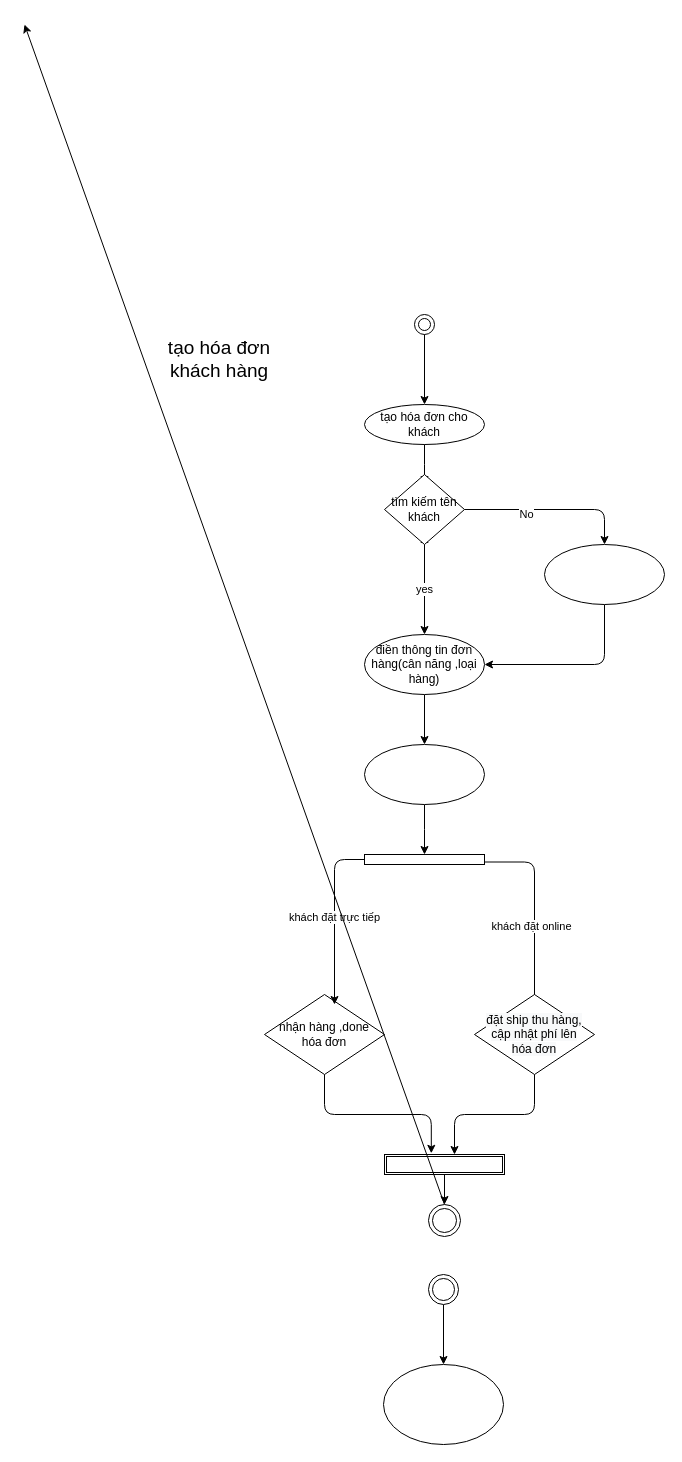
The diagram is 682 pixels wide and 1462 high, and some of its shapes have lost their labels. Here are the shapes that lost their labels. From the top down, the box of each, then its label:
(544, 544, 664, 604): tạo tài khoản khách hàng
(364, 744, 484, 804): tạo đơn cập nhật giờ lấy hàng ,ngày dự đình hoàn thành lên phần hóa đơn
(382, 1364, 504, 1444): điền đày đủ thông tin đơn hàng(cân năng hàng hóa)
